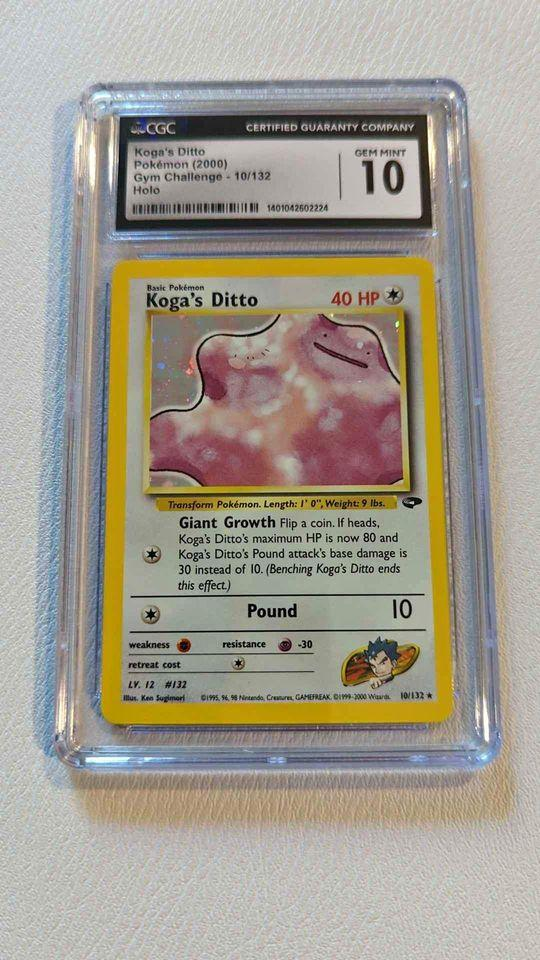card: (99, 256, 459, 729)
